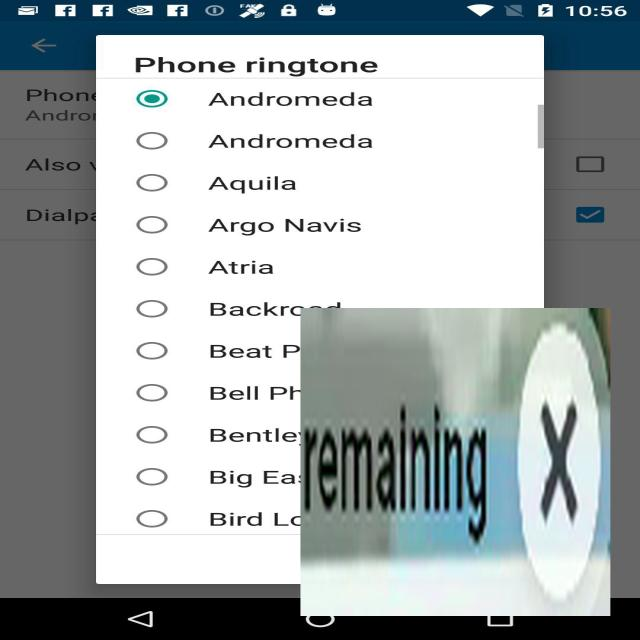misdirection: (300, 308, 610, 616)
